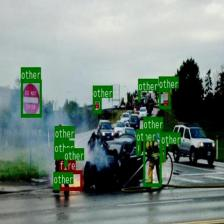fire: (59, 170, 82, 190)
